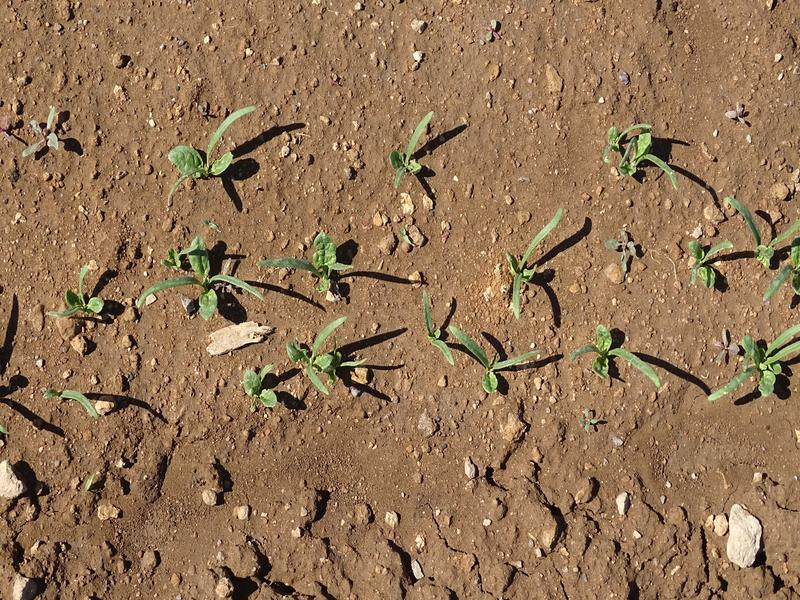Espinaca: (416, 208, 567, 394), (690, 197, 799, 401), (62, 236, 359, 303), (238, 317, 351, 413), (164, 103, 258, 200), (595, 118, 685, 190), (575, 328, 670, 396), (387, 111, 443, 185)
